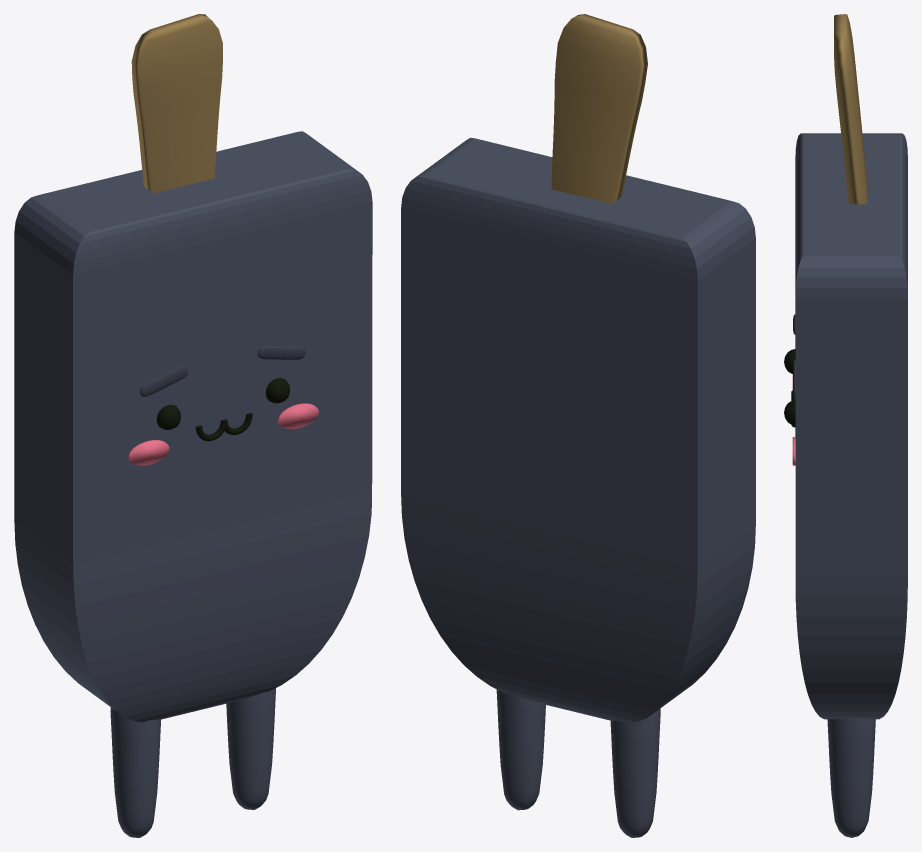
The model's file is jawsbar.glb.
3 renders of one model, left to right at view 1: azimuth 30°, elevation 25°; view 2: azimuth 150°, elevation 25°; view 3: azimuth 270°, elevation 25°, orthographic. The views are drawn at different scales.
Visible parts, largest first — view 1: body, bar, legs, chick, eyebrow, eyes; view 2: body, bar, legs; view 3: body, legs, bar, eyes.
Boxes of the visible parts, x1,y1,x2,y2 form: body: (14,131,372,722); bar: (131,14,222,193); legs: (110,688,275,837); chick: (128,403,318,465); eyebrow: (140,345,305,396); eyes: (156,378,289,429); body: (401,137,755,723); bar: (551,14,647,203); legs: (496,689,660,837); body: (795,133,907,719); legs: (827,718,875,837); bar: (834,14,867,204); eyes: (784,349,795,425).
Bounding box in the file's own units: 2 × 5.18 × 0.7481.
